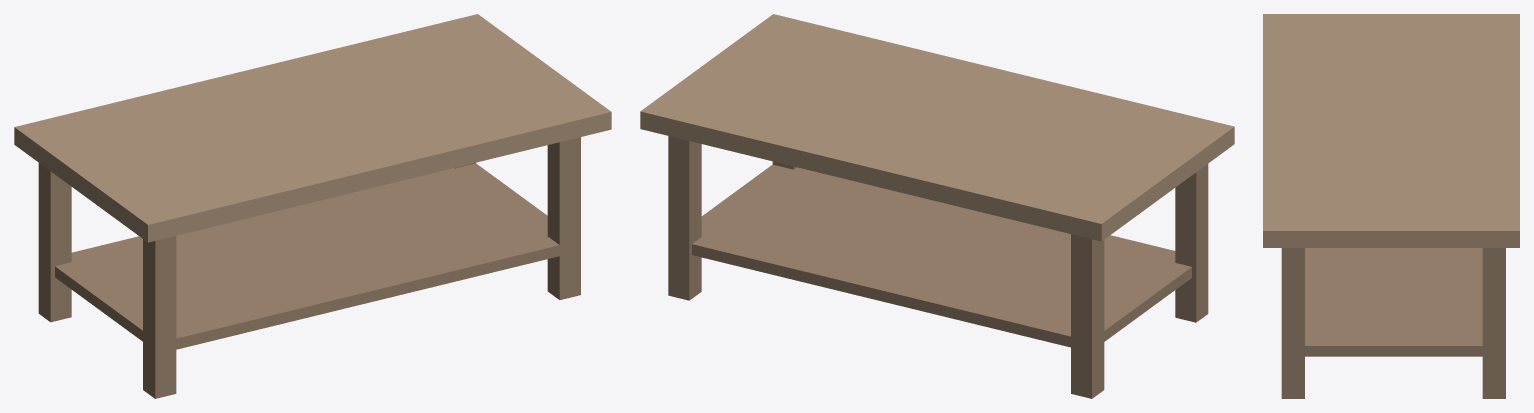
File: coffee-table.gltf
3 renders of one model, left to right at view 1: azimuth 30°, elevation 25°; view 2: azimuth 150°, elevation 25°; view 3: azimuth 270°, elevation 25°, orthographic. The views are drawn at different scales.
Parts seen in each view (by area): view 1: top, shelf, leg_-0.51_0.46, leg_0.45_0.46, leg_-0.51_0.03; view 2: top, shelf, leg_-0.51_0.03, leg_0.45_0.03, leg_-0.51_0.46; view 3: top, shelf, leg_0.45_0.03, leg_0.45_0.46.
Boxes of the visible parts, <box> form: top: <box>14,14,611,242</box>; shelf: <box>55,163,580,353</box>; leg_-0.51_0.46: <box>143,236,176,398</box>; leg_0.45_0.46: <box>547,137,580,299</box>; leg_-0.51_0.03: <box>38,163,71,322</box>; top: <box>640,14,1234,241</box>; shelf: <box>692,164,1191,347</box>; leg_-0.51_0.03: <box>1071,234,1104,398</box>; leg_0.45_0.03: <box>668,136,701,300</box>; leg_-0.51_0.46: <box>1175,164,1208,322</box>; top: <box>1263,14,1519,247</box>; shelf: <box>1281,248,1501,356</box>; leg_0.45_0.03: <box>1482,248,1505,398</box>; leg_0.45_0.46: <box>1281,248,1304,398</box>.
Bounding box in the file's own units: 0.0688 × 0.0262 × 0.0344.
